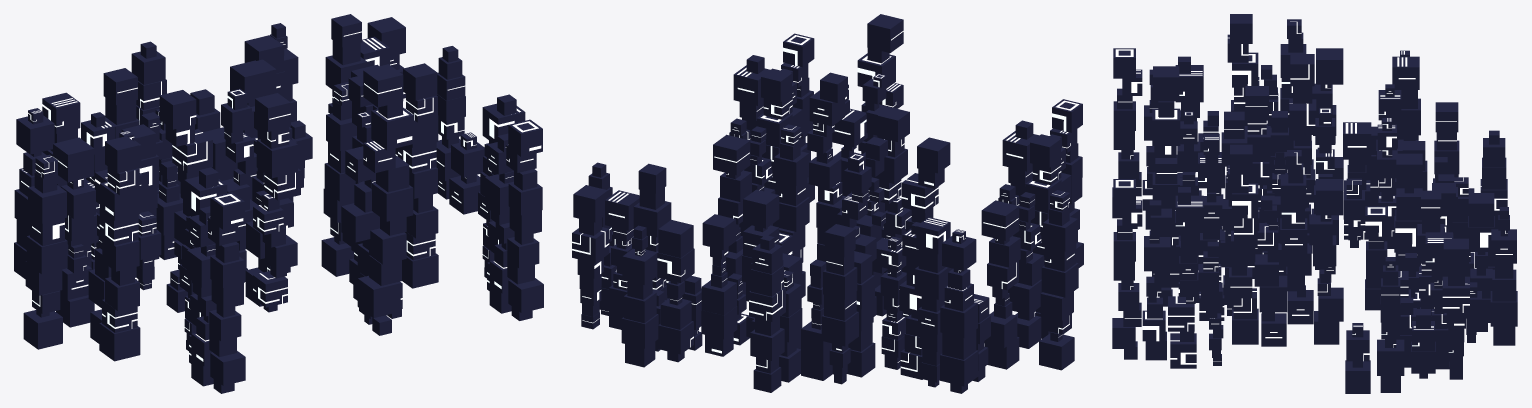
The model's file is terrain.glb.
3 renders of one model, left to right at view 1: azimuth 30°, elevation 25°; view 2: azimuth 150°, elevation 25°; view 3: azimuth 270°, elevation 25°, orthographic. The views are drawn at different scales.
Parts seen in each view (by area): view 1: GN_Stack.004, GN_Stack.003, GN_Stack.005, GN_Stack.001, GN_Stack.002; view 2: GN_Stack.001, GN_Stack.004, GN_Stack.003, GN_Stack.005, GN_Stack.002; view 3: GN_Stack.005, GN_Stack.001, GN_Stack.003, GN_Stack.004, GN_Stack.002.
Part boxes in pixels (<box>): GN_Stack.004: <box>23,136,245,393</box>; GN_Stack.003: <box>159,64,413,335</box>; GN_Stack.005: <box>321,63,543,320</box>; GN_Stack.001: <box>14,14,465,279</box>; GN_Stack.002: <box>67,109,484,290</box>; GN_Stack.001: <box>572,162,978,393</box>; GN_Stack.004: <box>981,99,1083,370</box>; GN_Stack.003: <box>807,14,950,316</box>; GN_Stack.005: <box>713,33,814,297</box>; GN_Stack.002: <box>599,227,990,382</box>; GN_Stack.005: <box>1112,144,1343,368</box>; GN_Stack.001: <box>1376,50,1517,392</box>; GN_Stack.003: <box>1152,54,1338,320</box>; GN_Stack.004: <box>1112,14,1343,235</box>; GN_Stack.002: <box>1343,122,1481,393</box>.
Size of what is drawn, in the model's own units: 32.6 by 16.69 by 26.38.
